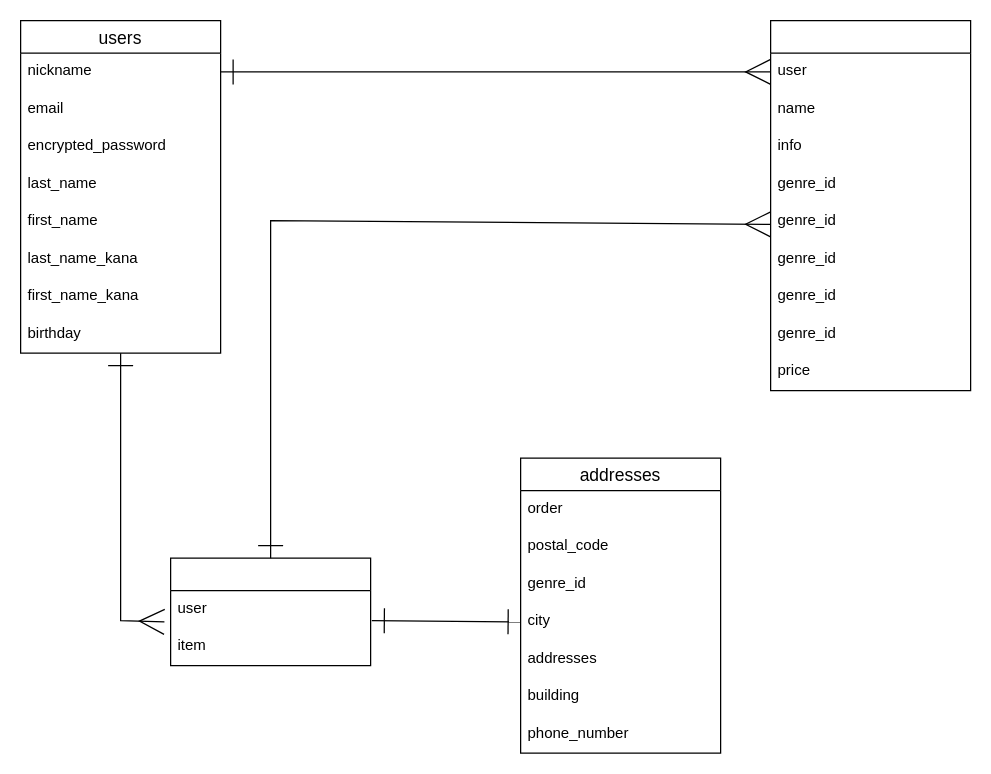
The diagram is 991 pixels wide and 774 high, and some of its shapes have lost their labels. Each missing label, with the box of its shape:
items: (769, 19, 971, 391)
orders: (169, 557, 371, 666)
